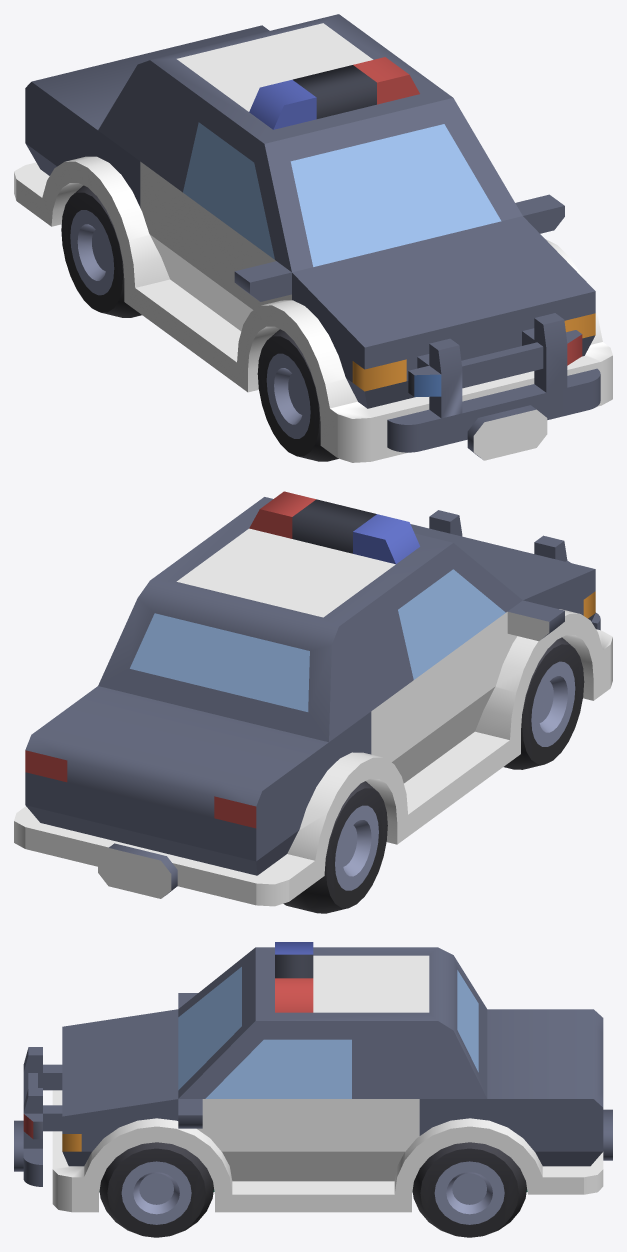
File: vehicle-car-police.glb
The picture shows the model from 3 angles, top to bottom: view 1: azimuth 30°, elevation 25°; view 2: azimuth 150°, elevation 25°; view 3: azimuth 270°, elevation 25°; orthographic projection. The views are drawn at different scales.
Parts seen in each view (by area): view 1: body, wheel-front-right, wheel-back-right; view 2: body, wheel-back-right, wheel-front-right; view 3: body, wheel-back-left, wheel-front-left.
Boxes of the visible parts, <box> form: body: <box>14,14,612,462</box>; wheel-front-right: <box>257,329,338,461</box>; wheel-back-right: <box>61,185,141,317</box>; body: <box>14,491,612,906</box>; wheel-back-right: <box>283,781,387,913</box>; wheel-front-right: <box>504,637,584,769</box>; body: <box>14,942,612,1212</box>; wheel-back-left: <box>412,1142,526,1237</box>; wheel-front-left: <box>99,1142,213,1237</box>.
Size of the model in its own units: 1.5 by 1.3 by 3.1.
Materials: 1 (1 with a texture image).
